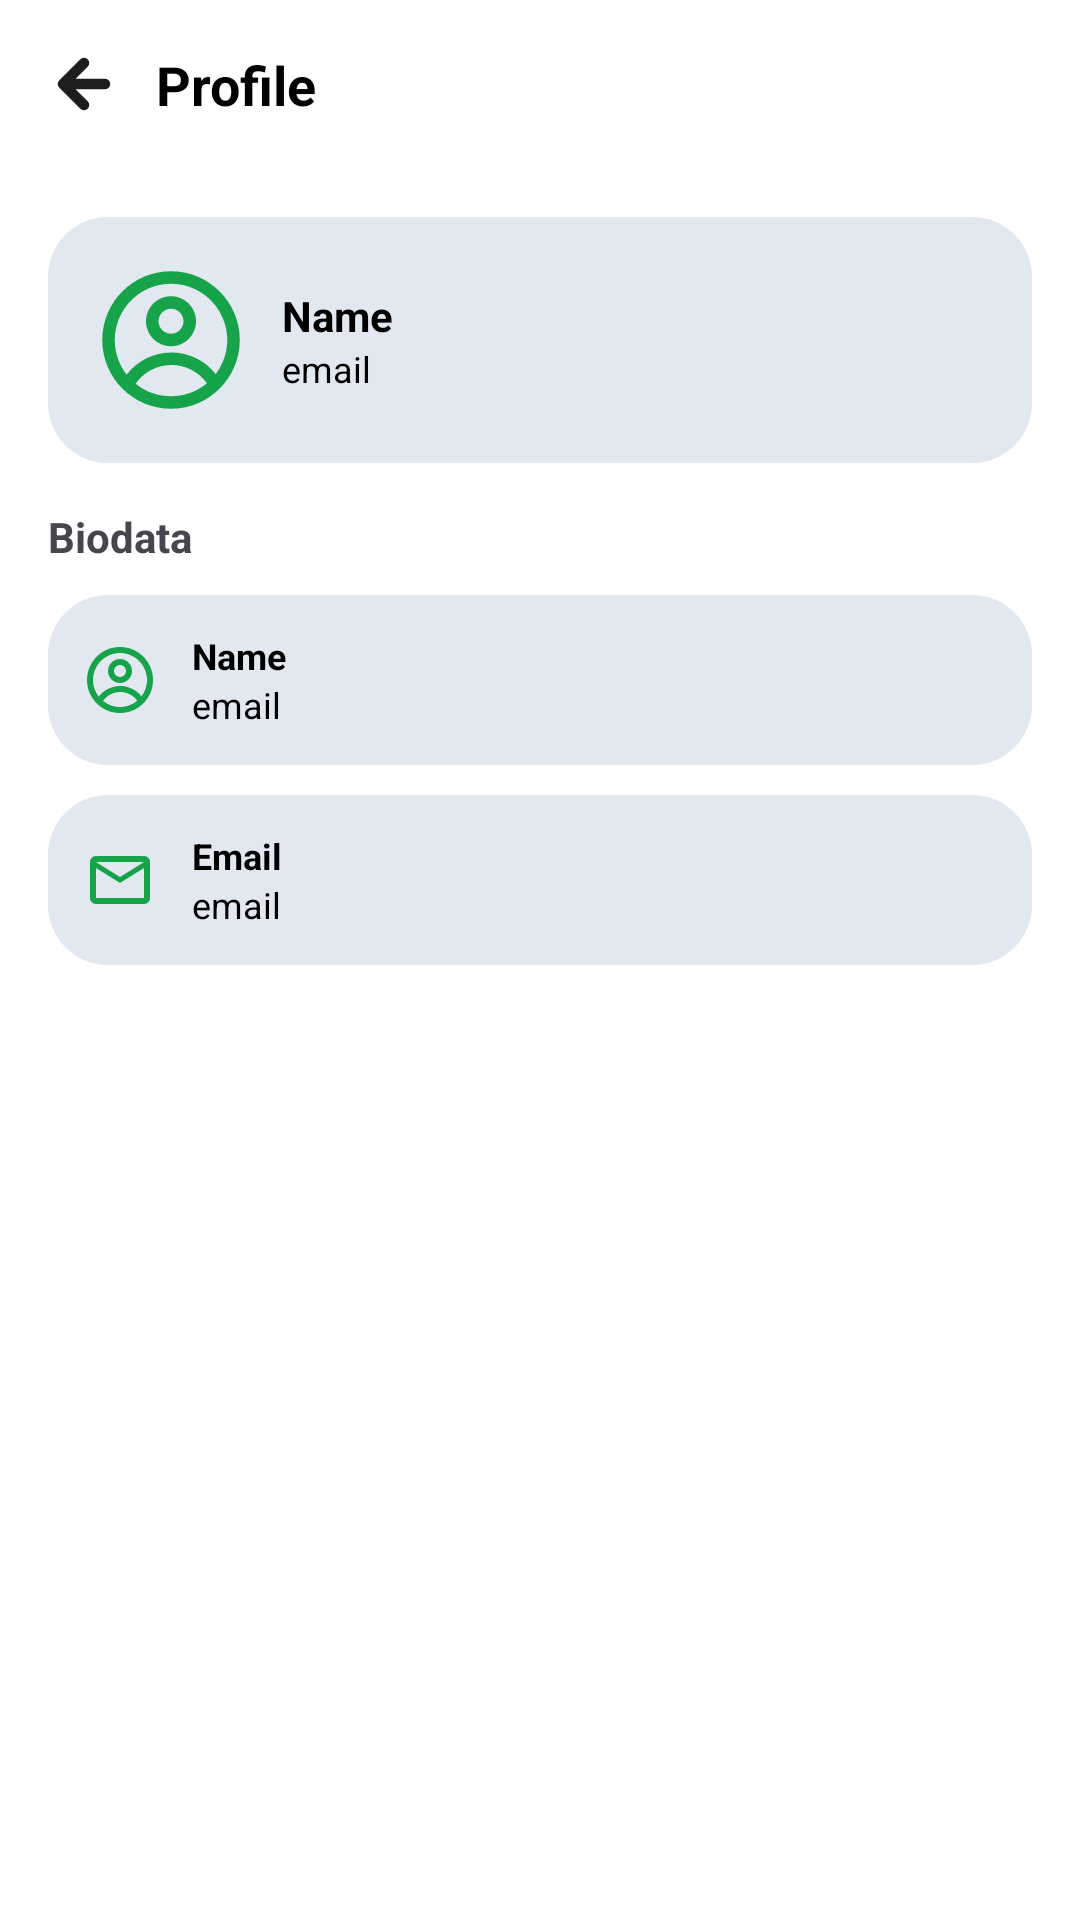

Icon click points for this 1080px×1920px phone screenshot, format (x,y):
arrow: (84,84)
